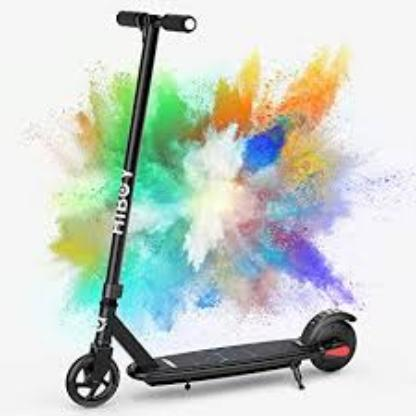bike: (64, 10, 356, 410)
